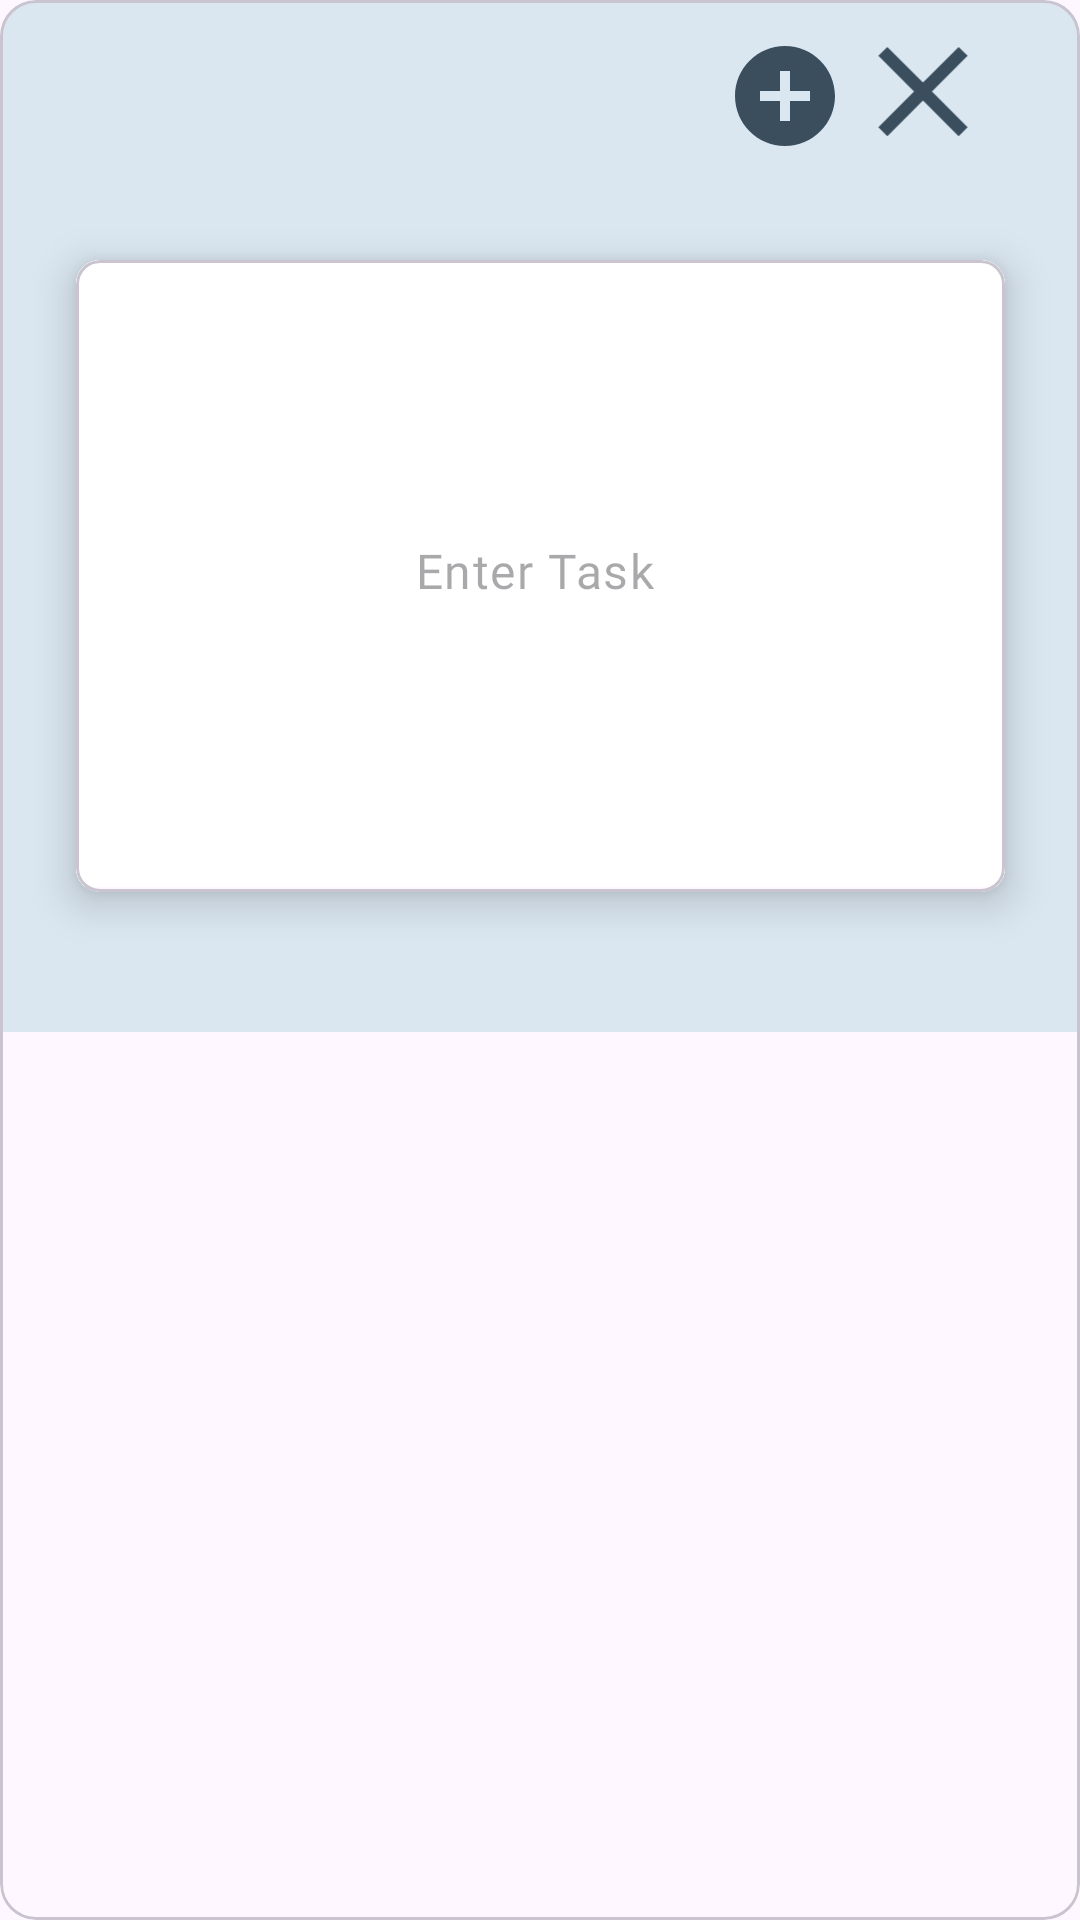

Icons on this 1080 × 1920 Android screen, each with its box as (x1, y1, x2, y2):
add circle: (735, 46, 835, 146)
close: (878, 47, 968, 136)
